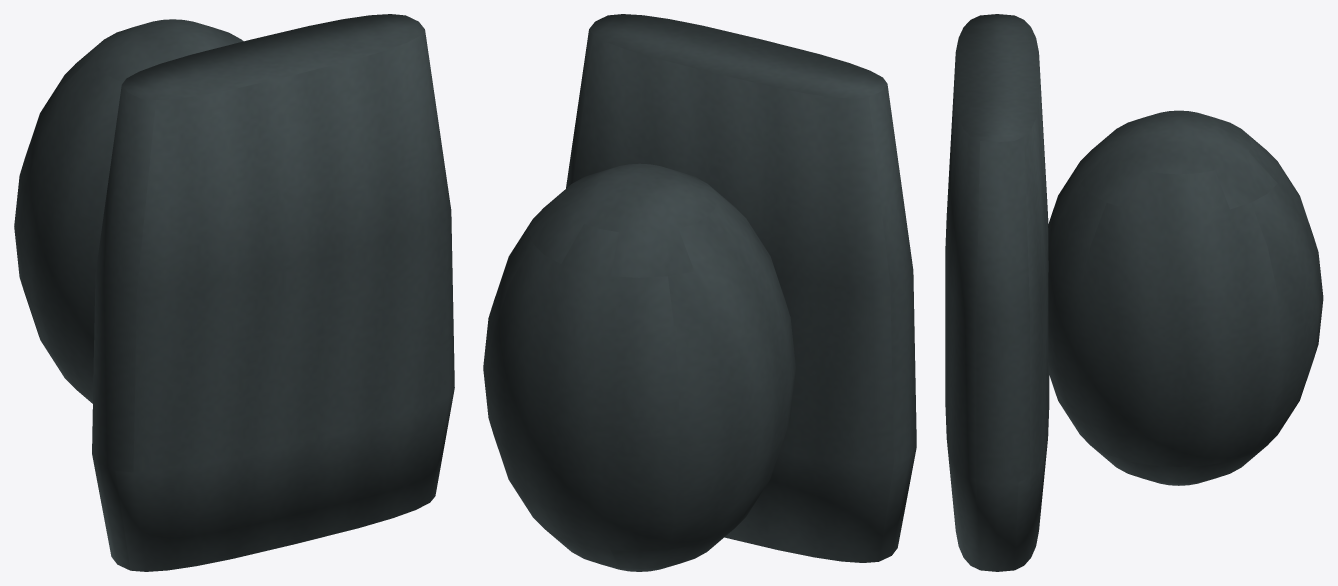
The model's file is neck_lod0.glb.
3 views of the same model, side by side, from view 1: azimuth 30°, elevation 25°; view 2: azimuth 150°, elevation 25°; view 3: azimuth 270°, elevation 25° (orthographic). The views are drawn at different scales.
Visible parts, largest first — view 1: dormin_neck_LOD0; view 2: dormin_neck_LOD0; view 3: dormin_neck_LOD0.
Boxes of the visible parts, left/top/right/bottom form: dormin_neck_LOD0: left=14, top=14, right=454, bottom=571; dormin_neck_LOD0: left=483, top=14, right=916, bottom=571; dormin_neck_LOD0: left=945, top=14, right=1323, bottom=571.
Bounding box in the file's own units: 1.96 × 2.53 × 2.04.
1 material, 1 textured.
